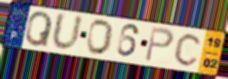6: (116, 23, 141, 60)
C: (172, 32, 204, 68)
O: (85, 19, 115, 57)
P: (143, 25, 175, 64)
Q: (24, 10, 54, 48)
U: (50, 11, 85, 53)
